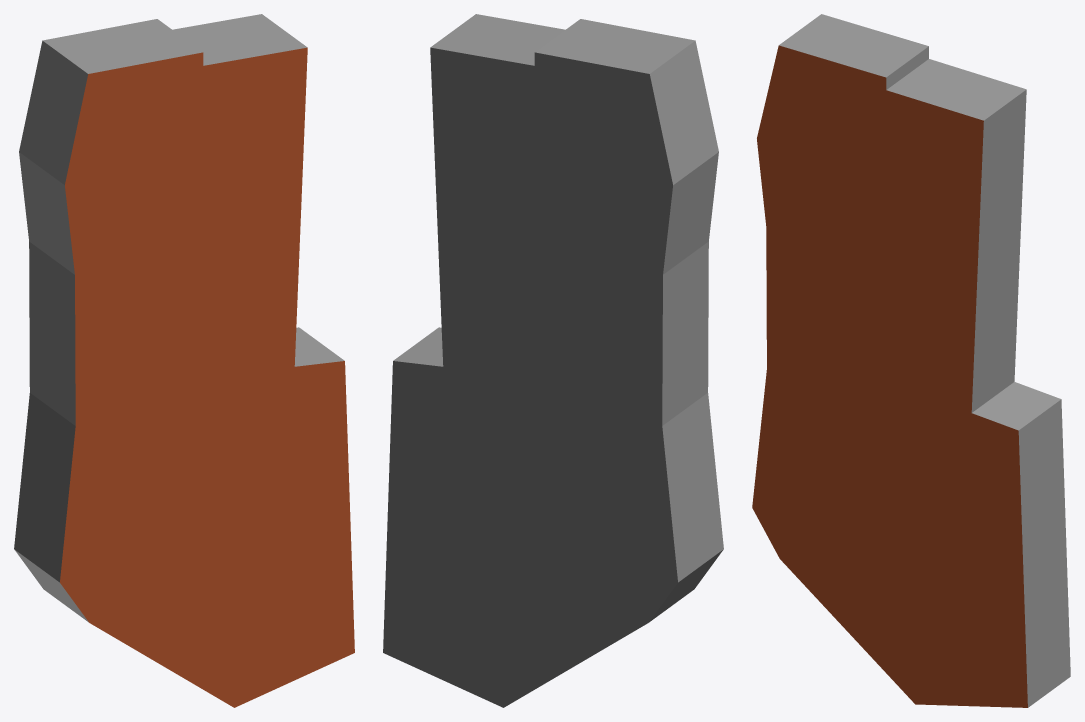
The model's file is construction_5928_assumed_A_Casa_h6m.obj.
3 views of the same model, side by side, from view 1: azimuth 30°, elevation 25°; view 2: azimuth 150°, elevation 25°; view 3: azimuth 330°, elevation 25° (orthographic). The views are drawn at different scales.
Parts seen in each view (by area): view 1: construction_5928_assumed_A_Casa; view 2: construction_5928_assumed_A_Casa; view 3: construction_5928_assumed_A_Casa.
Boxes of the visible parts, left/top/right/bottom form: construction_5928_assumed_A_Casa: left=14, top=14, right=354, bottom=707; construction_5928_assumed_A_Casa: left=383, top=14, right=723, bottom=707; construction_5928_assumed_A_Casa: left=752, top=14, right=1070, bottom=707.
Size of the model in its own units: 22.3 by 48.35 by 6.
